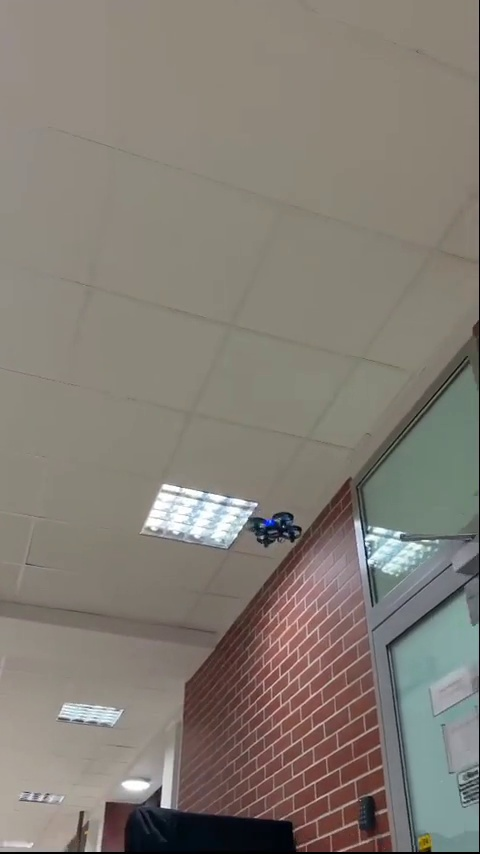drone: (248, 515, 309, 548)
